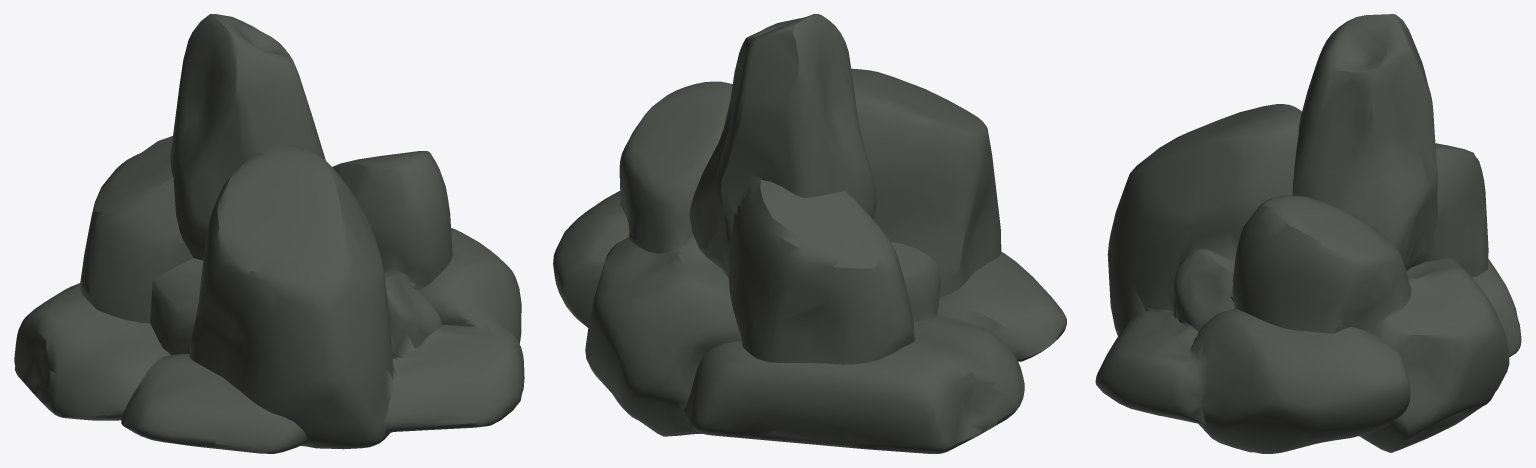
The model's file is rock-a.glb.
3 renders of one model, left to right at view 1: azimuth 30°, elevation 25°; view 2: azimuth 150°, elevation 25°; view 3: azimuth 270°, elevation 25°, orthographic. The views are drawn at different scales.
Visible parts, largest first — view 1: Environment_Cliff2; view 2: Environment_Cliff2; view 3: Environment_Cliff2.
Boxes of the visible parts, x1,y1,x2,y2 form: Environment_Cliff2: [14, 14, 524, 453]; Environment_Cliff2: [553, 14, 1066, 453]; Environment_Cliff2: [1095, 14, 1521, 453].
Bounding box in the file's own units: 13.89 × 12 × 12.34.
1 material, 1 textured.
